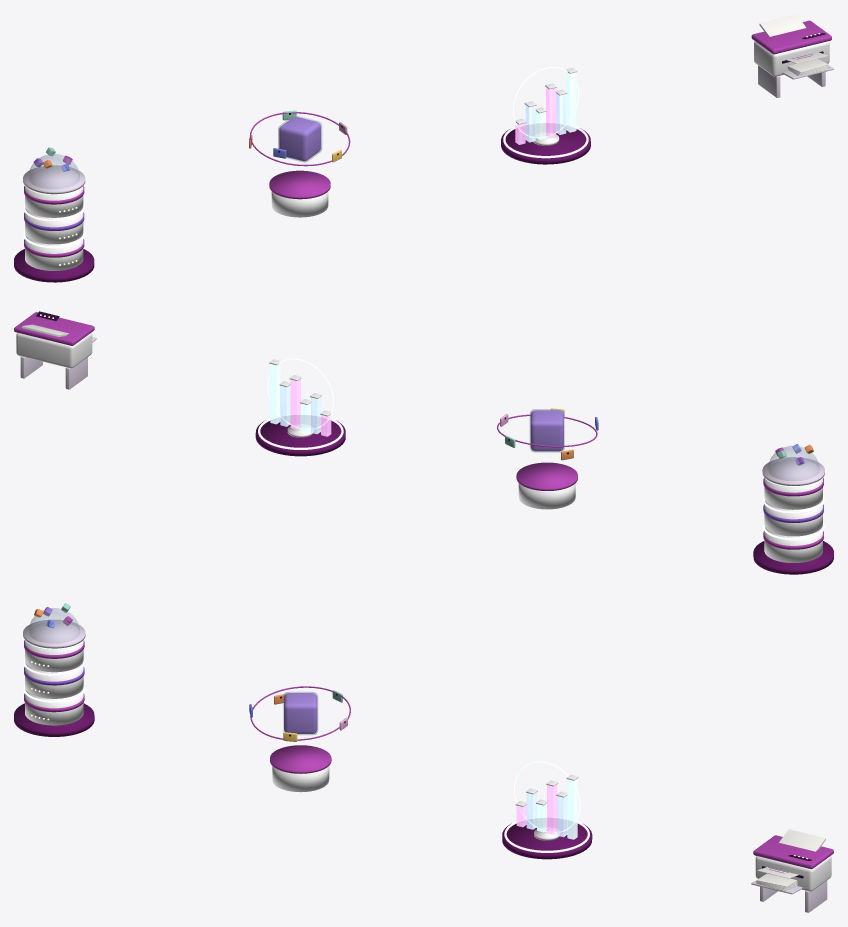
Rendered from data_a.glb.
3 renders of one model, top to bottom at view 1: azimuth 30°, elevation 25°; view 2: azimuth 150°, elevation 25°; view 3: azimuth 330°, elevation 25°, orthographic.
Parts seen in each view (by area): view 1: HoloBase, CubeShell, CubeBody, PlinthCap, Cap, Dome, PrinterTop, Disc1, Disc0, PrinterBody, Slab, Disc2 (+4 smaller); view 2: HoloBase, PrinterBody, CubeShell, PlinthCap, Cap, Dome, CubeBody, Disc1, PrinterTop, Disc0, Slab, Disc2 (+3 smaller); view 3: HoloBase, CubeShell, PlinthCap, Cap, Dome, CubeBody, PrinterTop, Disc0, Disc1, PrinterBody, Slab, Disc2 (+3 smaller).
Part boxes in pixels (x1=…): HoloBase: x1=501, y1=128, x2=590, y2=164; CubeShell: x1=278, y1=115, x2=322, y2=162; CubeBody: x1=279, y1=117, x2=320, y2=161; PlinthCap: x1=269, y1=170, x2=330, y2=199; Cap: x1=23, y1=165, x2=85, y2=194; Dome: x1=28, y1=153, x2=79, y2=188; PrinterTop: x1=751, y1=20, x2=831, y2=54; Disc1: x1=25, y1=208, x2=83, y2=244; Disc0: x1=25, y1=235, x2=83, y2=270; PrinterBody: x1=754, y1=41, x2=829, y2=76; Slab: x1=14, y1=249, x2=94, y2=282; Disc2: x1=25, y1=186, x2=83, y2=217; HoloBase: x1=255, y1=420, x2=345, y2=456; PrinterBody: x1=16, y1=332, x2=92, y2=368; CubeShell: x1=529, y1=409, x2=564, y2=452; PlinthCap: x1=516, y1=462, x2=577, y2=490; Cap: x1=762, y1=457, x2=824, y2=485; Dome: x1=767, y1=445, x2=819, y2=480; CubeBody: x1=530, y1=410, x2=563, y2=451; Disc1: x1=764, y1=500, x2=822, y2=536; PrinterTop: x1=14, y1=312, x2=94, y2=345; Disc0: x1=764, y1=527, x2=822, y2=562; Slab: x1=753, y1=541, x2=833, y2=574; Disc2: x1=764, y1=478, x2=822, y2=509; HoloBase: x1=502, y1=823, x2=592, y2=859; CubeShell: x1=283, y1=691, x2=318, y2=735; PlinthCap: x1=270, y1=745, x2=331, y2=773; Cap: x1=23, y1=619, x2=85, y2=648; Dome: x1=28, y1=608, x2=80, y2=643; CubeBody: x1=284, y1=693, x2=317, y2=733; PrinterTop: x1=753, y1=835, x2=833, y2=869; Disc0: x1=25, y1=689, x2=83, y2=725; Disc1: x1=25, y1=662, x2=83, y2=698; PrinterBody: x1=755, y1=856, x2=831, y2=891; Slab: x1=14, y1=703, x2=94, y2=736; Disc2: x1=25, y1=640, x2=83, y2=672.
Bounding box in the file's own units: 19.58 × 2.61 × 2.12.
